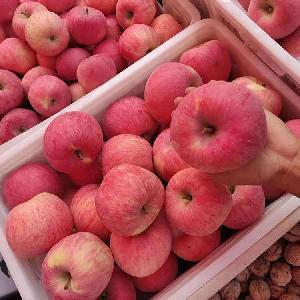apple: (170, 82, 265, 173), (94, 163, 165, 234), (39, 233, 113, 299), (6, 192, 73, 257), (167, 167, 230, 236), (106, 216, 172, 275), (43, 112, 103, 172), (145, 63, 203, 124), (2, 164, 67, 207), (103, 96, 158, 142), (68, 183, 111, 241), (179, 40, 231, 83), (232, 76, 283, 116), (247, 1, 299, 39), (25, 12, 69, 56), (167, 224, 220, 260), (29, 74, 72, 116), (224, 185, 265, 228), (120, 23, 160, 63), (66, 5, 107, 44), (77, 53, 117, 91), (1, 35, 38, 76), (1, 108, 40, 145), (13, 2, 48, 41), (113, 1, 157, 29), (1, 70, 24, 113)
